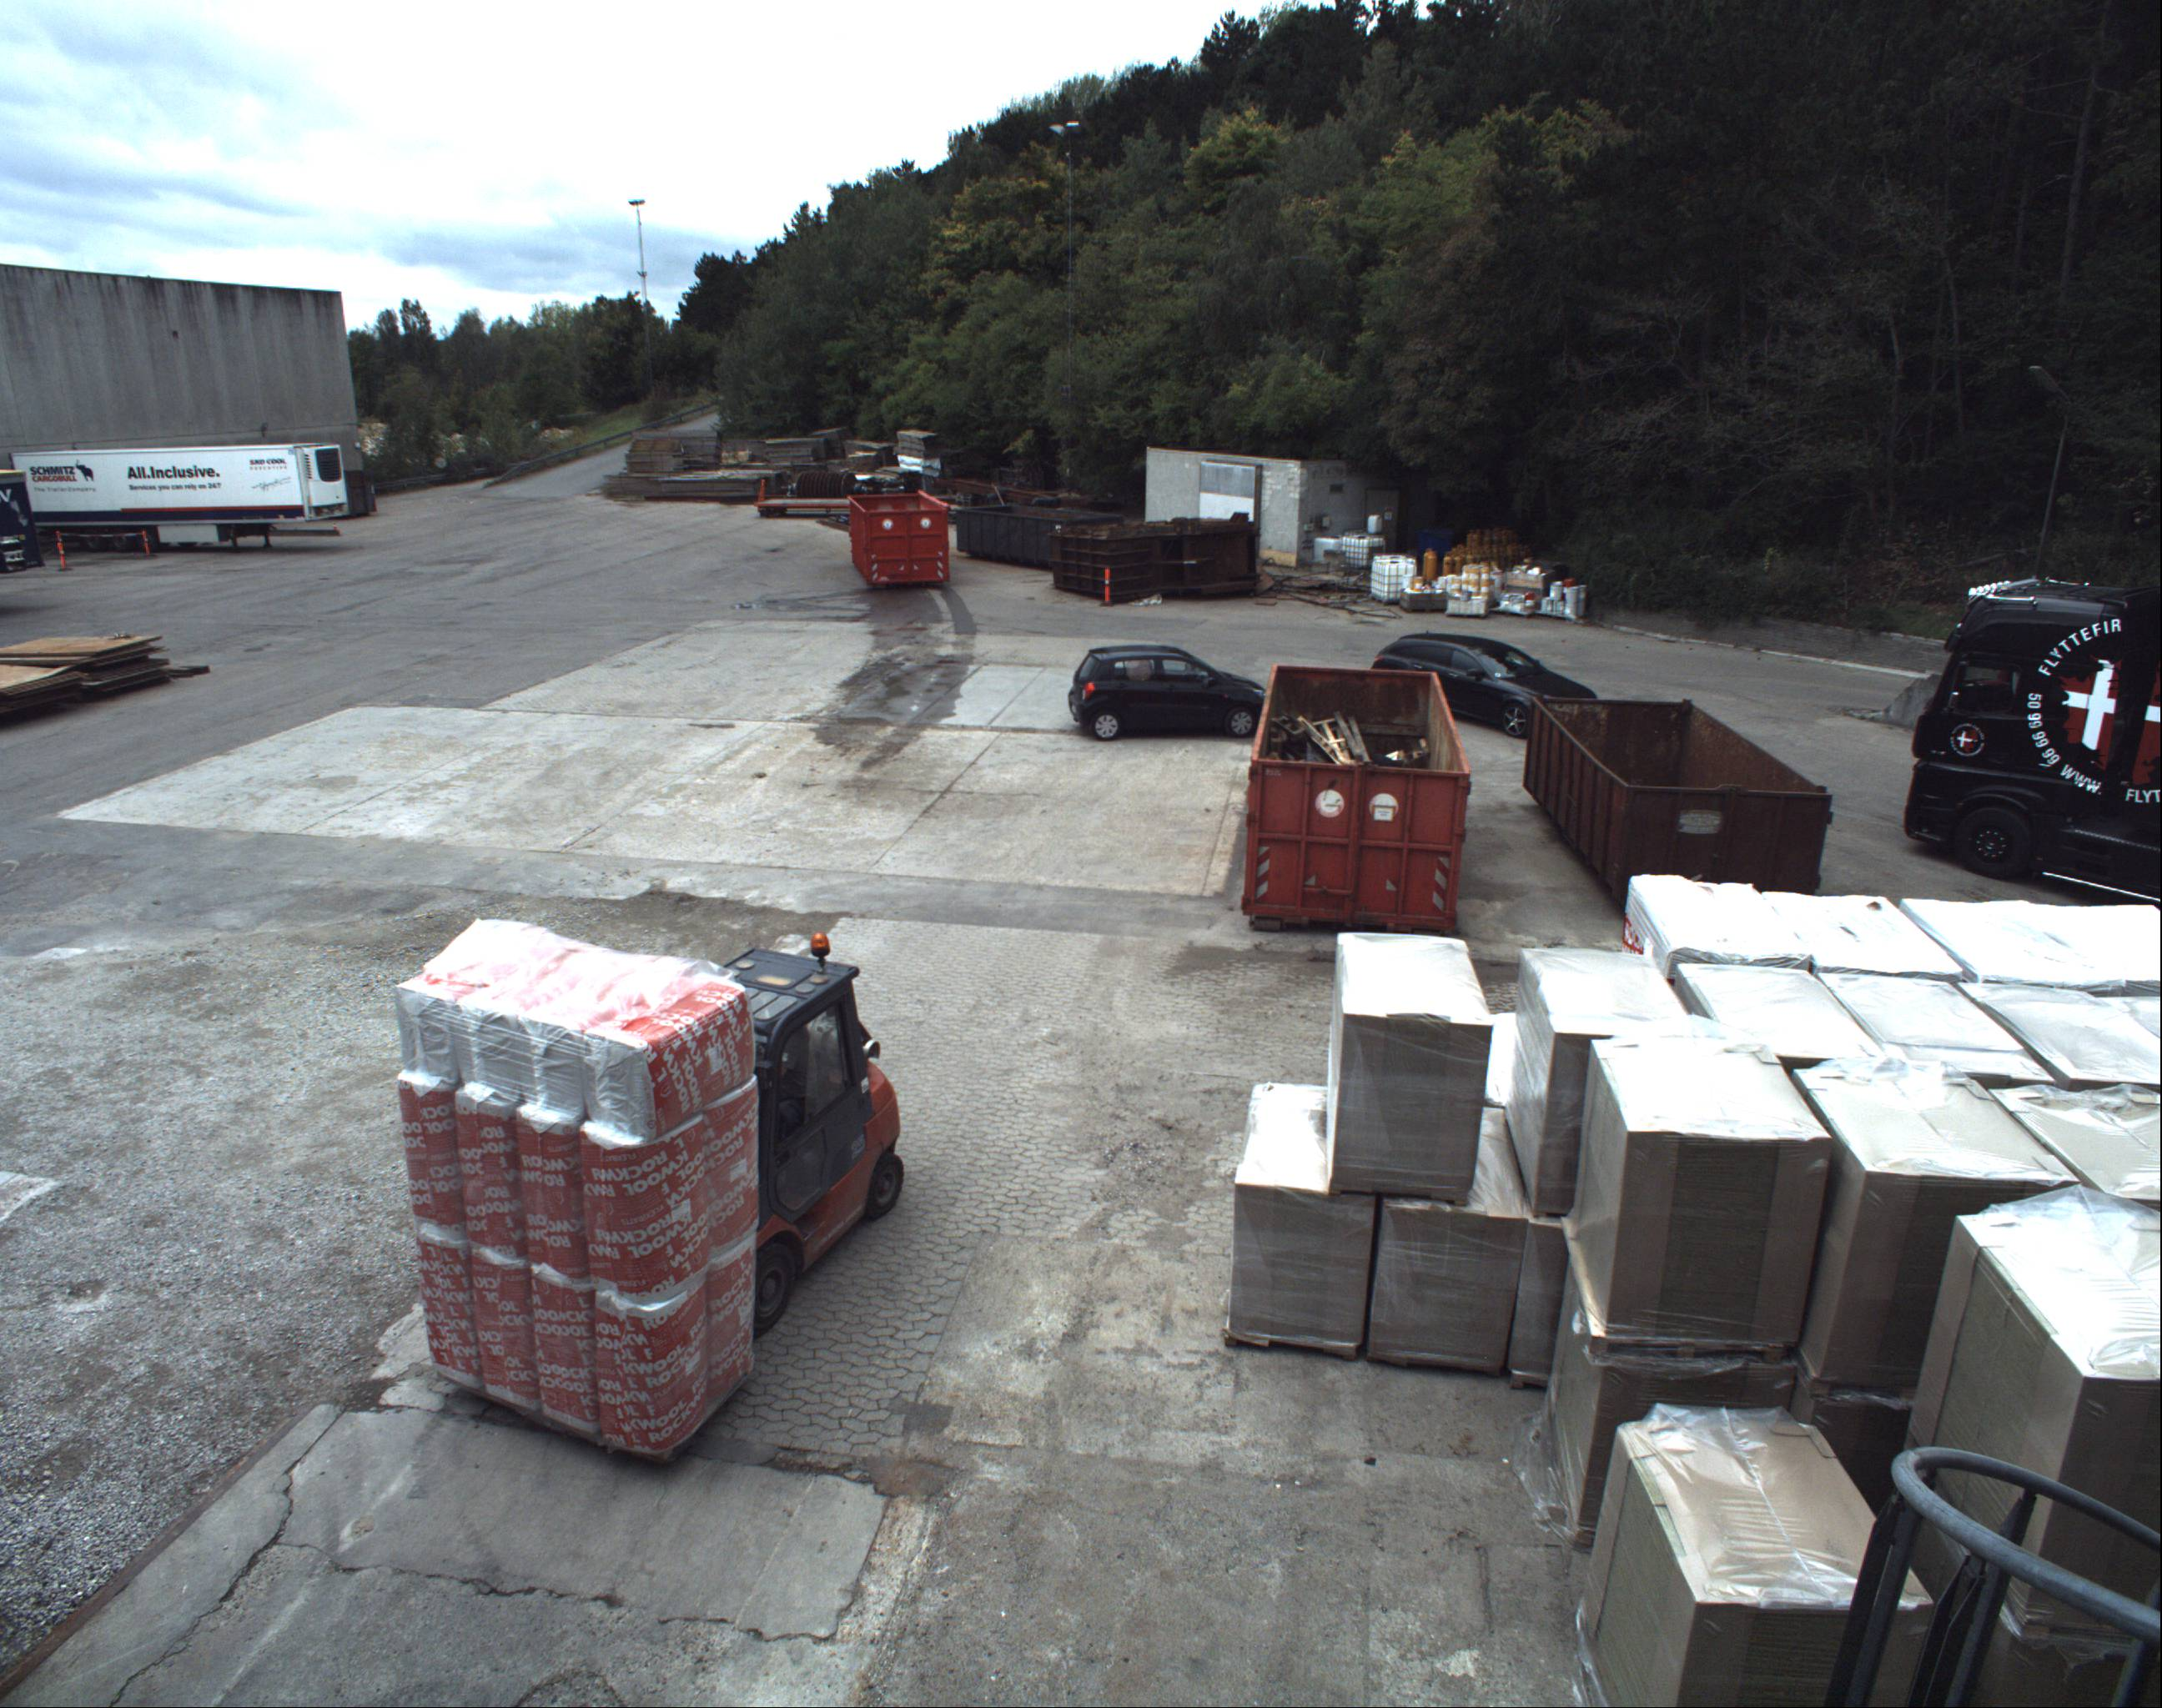rockwool_batts: (391, 916, 758, 1475)
